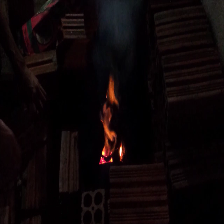fire_h: (100, 76, 118, 164)
fire_l: (119, 142, 125, 161)
